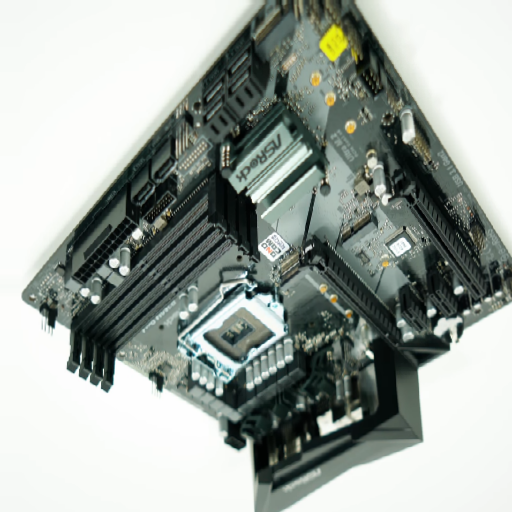CPU: (174, 278, 290, 386)
GPU: (387, 165, 485, 304), (299, 247, 400, 348)
MOTHERBOARD: (20, 2, 509, 460)
RAM: (68, 172, 258, 394)
SSD: (341, 214, 378, 252), (271, 251, 304, 284)
